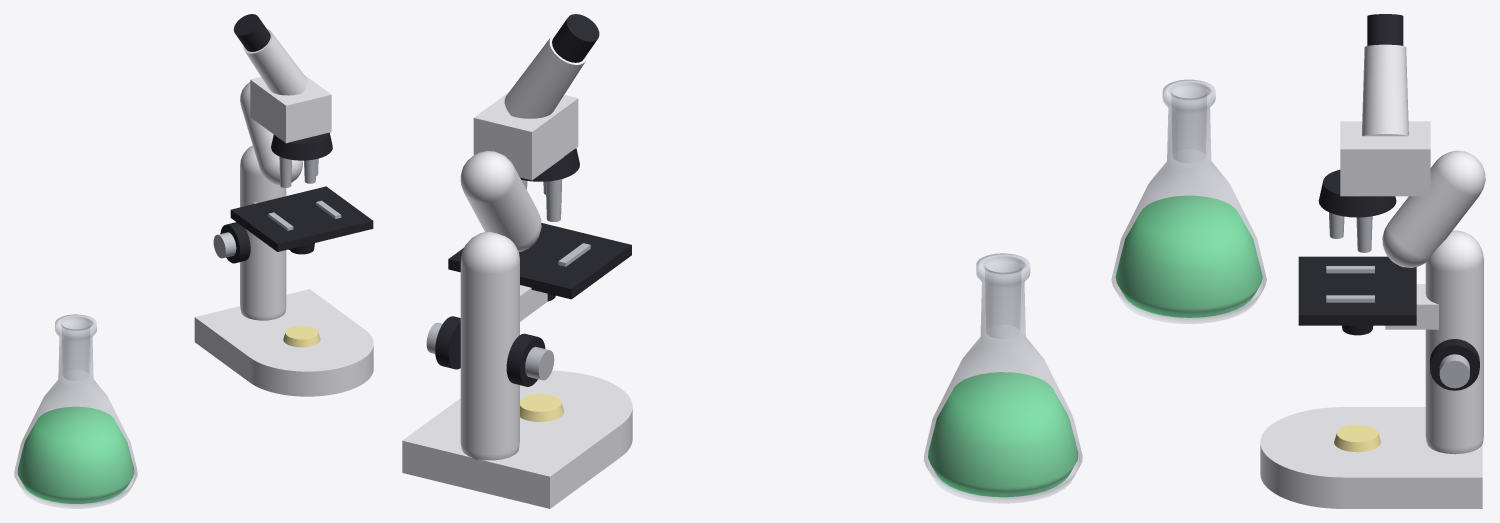
Rendered from long-vest.glb.
3 views of the same model, side by side, from view 1: azimuth 30°, elevation 25°; view 2: azimuth 150°, elevation 25°; view 3: azimuth 270°, elevation 25° (orthographic). The views are drawn at different scales.
Parts seen in each view (by area): view 1: anchor_body, grip_neg; view 2: anchor_body, grip_neg; view 3: anchor_body, grip_neg.
Boxes of the visible parts, <box> form: anchor_body: <box>194,14,373,396</box>; grip_neg: <box>14,314,137,508</box>; anchor_body: <box>402,14,632,508</box>; grip_neg: <box>923,253,1082,503</box>; anchor_body: <box>1260,14,1485,508</box>; grip_neg: <box>1111,79,1266,323</box>.
Size of the model in its own units: 0.5824 by 0.482 by 0.3718.
